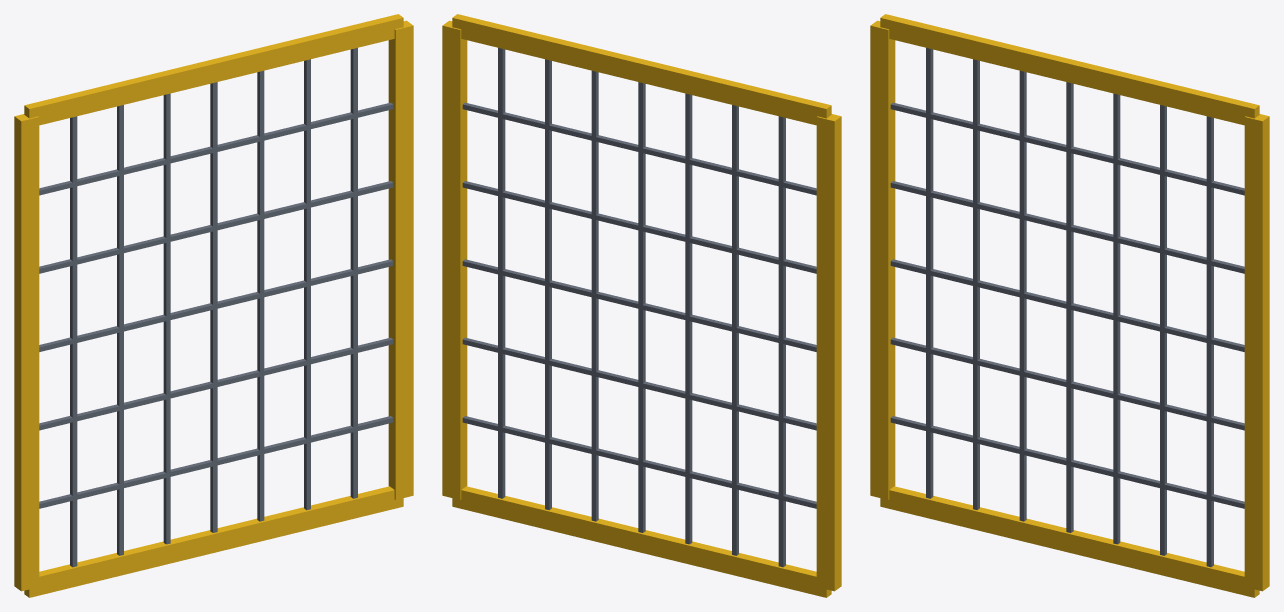
Rendered from lift_door.glb.
3 renders of one model, left to right at view 1: azimuth 30°, elevation 25°; view 2: azimuth 150°, elevation 25°; view 3: azimuth 330°, elevation 25°, orthographic.
Visible parts, largest first — view 1: lift_door; view 2: lift_door; view 3: lift_door.
Boxes of the visible parts, <box> form: lift_door: <box>14,14,413,597</box>; lift_door: <box>442,14,841,597</box>; lift_door: <box>870,14,1269,597</box>.
Size of the model in its own units: 2.62 by 3.12 by 0.08.
Materials: 1 (1 with a texture image).
